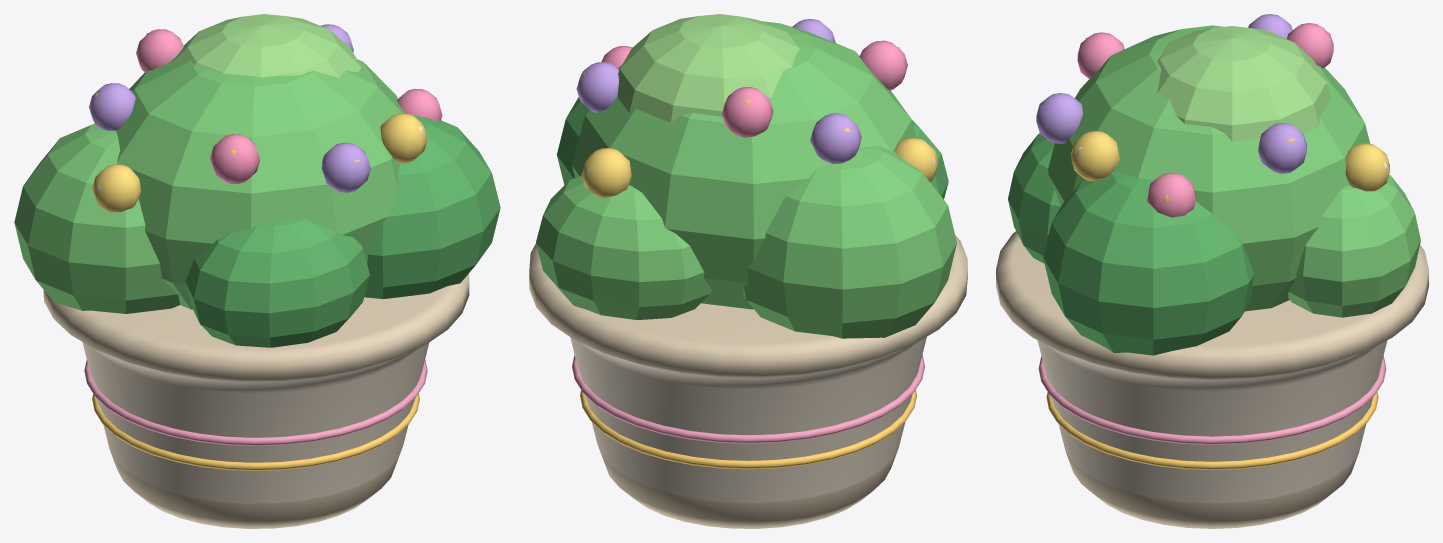
File: planter.glb
3 renders of one model, left to right at view 1: azimuth 30°, elevation 25°; view 2: azimuth 150°, elevation 25°; view 3: azimuth 270°, elevation 25°, orthographic. The views are drawn at different scales.
Visible parts, largest first — view 1: planter; view 2: planter; view 3: planter.
Boxes of the visible parts, x1,y1,x2,y2 form: planter: [14, 14, 500, 528]; planter: [529, 14, 967, 528]; planter: [996, 14, 1428, 528].
Bounding box in the file's own units: 1.22 × 1.25 × 1.1.
Materials: 1 (1 with a texture image).
